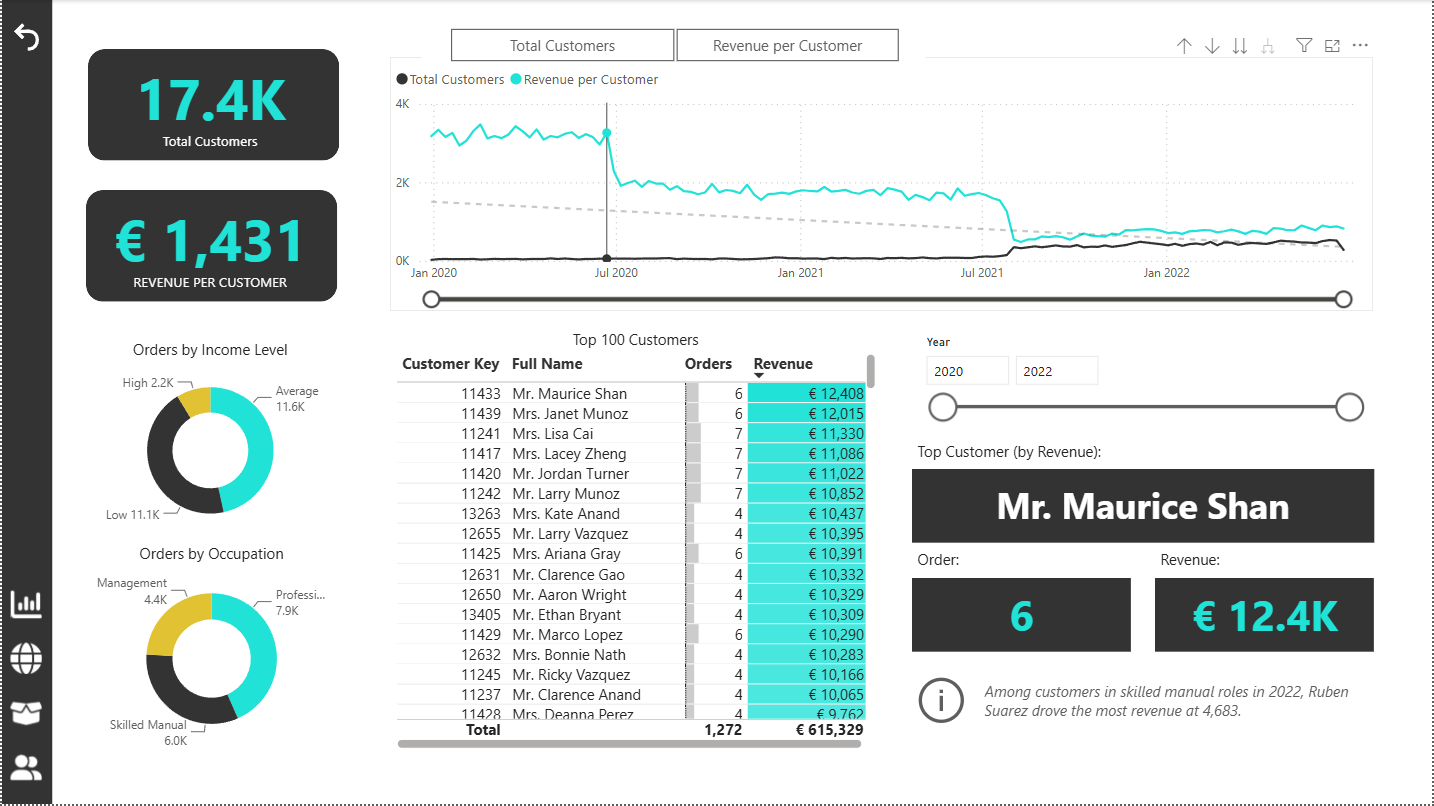

The page's visual inventory and layout, read from the dashboard file:
{"tool":"powerbi","page":{"name":"Customer Detail","canvas":[1280,720],"ordinal":3},"visuals":[{"type":"shape","box":[0,0,45,720],"z":0},{"type":"shape","box":[75,170,225,100],"z":1000},{"type":"actionButton","box":[3.8,521.2,36.2,40],"z":1000,"group":"g1"},{"type":"shape","box":[76.7,43.8,225,100],"z":2000},{"type":"actionButton","box":[3.8,570,36.2,40],"z":2000,"group":"g1"},{"type":"card","fields":{"Values":["Measure Table.Total Customers"]},"box":[73.8,18.8,226.2,150],"z":3000},{"type":"actionButton","box":[3.8,618.7,36.2,40],"z":3000,"group":"g1"},{"type":"card","fields":{"Values":["Measure Table.Average Revenue per Customer"]},"box":[73.8,145,226.2,150],"z":4000},{"type":"actionButton","box":[3.8,667.4,36.2,40],"z":4000,"group":"g1"},{"type":"donutChart","title":"Orders by Income Level","fields":{"Category":["Customer Lookup.Income Level"],"Y":["Measure Table.Total Orders"]},"box":[73.8,303.8,226.2,182.5],"z":6000},{"type":"lineChart","fields":{"Y":["Measure Table.Total Customers","Measure Table.Average Revenue per Customer"],"Category":["Calendar Lookup.Date Hierarchy.Start of Year","Calendar Lookup.Date Hierarchy.Start of Month","Calendar Lookup.Date Hierarchy.Start of Week","Calendar Lookup.Date Hierarchy.Date"]},"box":[347.5,51.2,880,227.5],"z":6500},{"type":"donutChart","title":"Orders by Occupation","fields":{"Y":["Measure Table.Total Orders"],"Category":["Customer Lookup.Occupation"]},"box":[75,486.2,225,190],"z":7000},{"type":"tableEx","title":"Top 100 Customers","fields":{"Values":["Customer Lookup.CustomerKey","Customer Lookup.Full Name","Measure Table.Total Orders","Measure Table.Total Revenue"]},"box":[347.5,295,440,381.2],"z":8000},{"type":"card","fields":{"Values":["Customer Lookup.Full Name (Customer Detail)"]},"box":[815,420,413.8,66.2],"z":9000},{"type":"card","fields":{"Values":["Measure Table.Total Orders (Customer Detail)"]},"box":[815,517.5,196.2,66.2],"z":10000},{"type":"card","fields":{"Values":["Measure Table.Total Revenue (Customer Detail)"]},"box":[1032.5,517.5,196.2,66.2],"z":11000},{"type":"textbox","box":[815,390,196.2,30],"z":12000},{"type":"textbox","box":[815,487.5,98.8,30],"z":13000},{"type":"textbox","box":[1032.5,487.5,157.5,30],"z":14000},{"type":"slicer","fields":{"Values":["Calendar Lookup.Year"]},"box":[815,295,413.8,86.2],"z":15000},{"type":"actionButton","box":[815,601.2,412.5,52.5],"z":16000},{"type":"actionButton","box":[5,16.2,35,33.8],"z":17000},{"type":"group","id":"g1","title":"Navigation Buttoms","box":[3.8,521.2,36.2,186.2],"z":18000},{"type":"slicer","fields":{"Values":["Customer Metric Selection.Customer Metric Selection"]},"box":[376.2,18.8,451.2,42.5],"z":21500}]}

Visuals, with their boxes on the page's 1280x720 design canvas (x1, y1, x2, y2). These are canvas units, not pixel positions in the 1434x806 screenshot, which may show the page scaled, cropped or inside an application window:
shape: l=0, t=0, r=45, b=720
shape: l=75, t=170, r=300, b=270
actionButton: l=4, t=521, r=40, b=561
shape: l=77, t=44, r=302, b=144
actionButton: l=4, t=570, r=40, b=610
card - Measure Table.Total Customers: l=74, t=19, r=300, b=169
actionButton: l=4, t=619, r=40, b=659
card - Measure Table.Average Revenue per Customer: l=74, t=145, r=300, b=295
actionButton: l=4, t=667, r=40, b=707
"Orders by Income Level" donutChart: l=74, t=304, r=300, b=486
lineChart - Measure Table.Total Customers x Measure Table.Average Revenue per Customer: l=348, t=51, r=1228, b=279
"Orders by Occupation" donutChart: l=75, t=486, r=300, b=676
"Top 100 Customers" tableEx: l=348, t=295, r=788, b=676
card - Customer Lookup.Full Name (Customer Detail): l=815, t=420, r=1229, b=486
card - Measure Table.Total Orders (Customer Detail): l=815, t=518, r=1011, b=584
card - Measure Table.Total Revenue (Customer Detail): l=1032, t=518, r=1229, b=584
textbox: l=815, t=390, r=1011, b=420
textbox: l=815, t=488, r=914, b=518
textbox: l=1032, t=488, r=1190, b=518
slicer - Calendar Lookup.Year: l=815, t=295, r=1229, b=381
actionButton: l=815, t=601, r=1228, b=654
actionButton: l=5, t=16, r=40, b=50
"Navigation Buttoms" group: l=4, t=521, r=40, b=707
slicer - Customer Metric Selection.Customer Metric Selection: l=376, t=19, r=827, b=61
